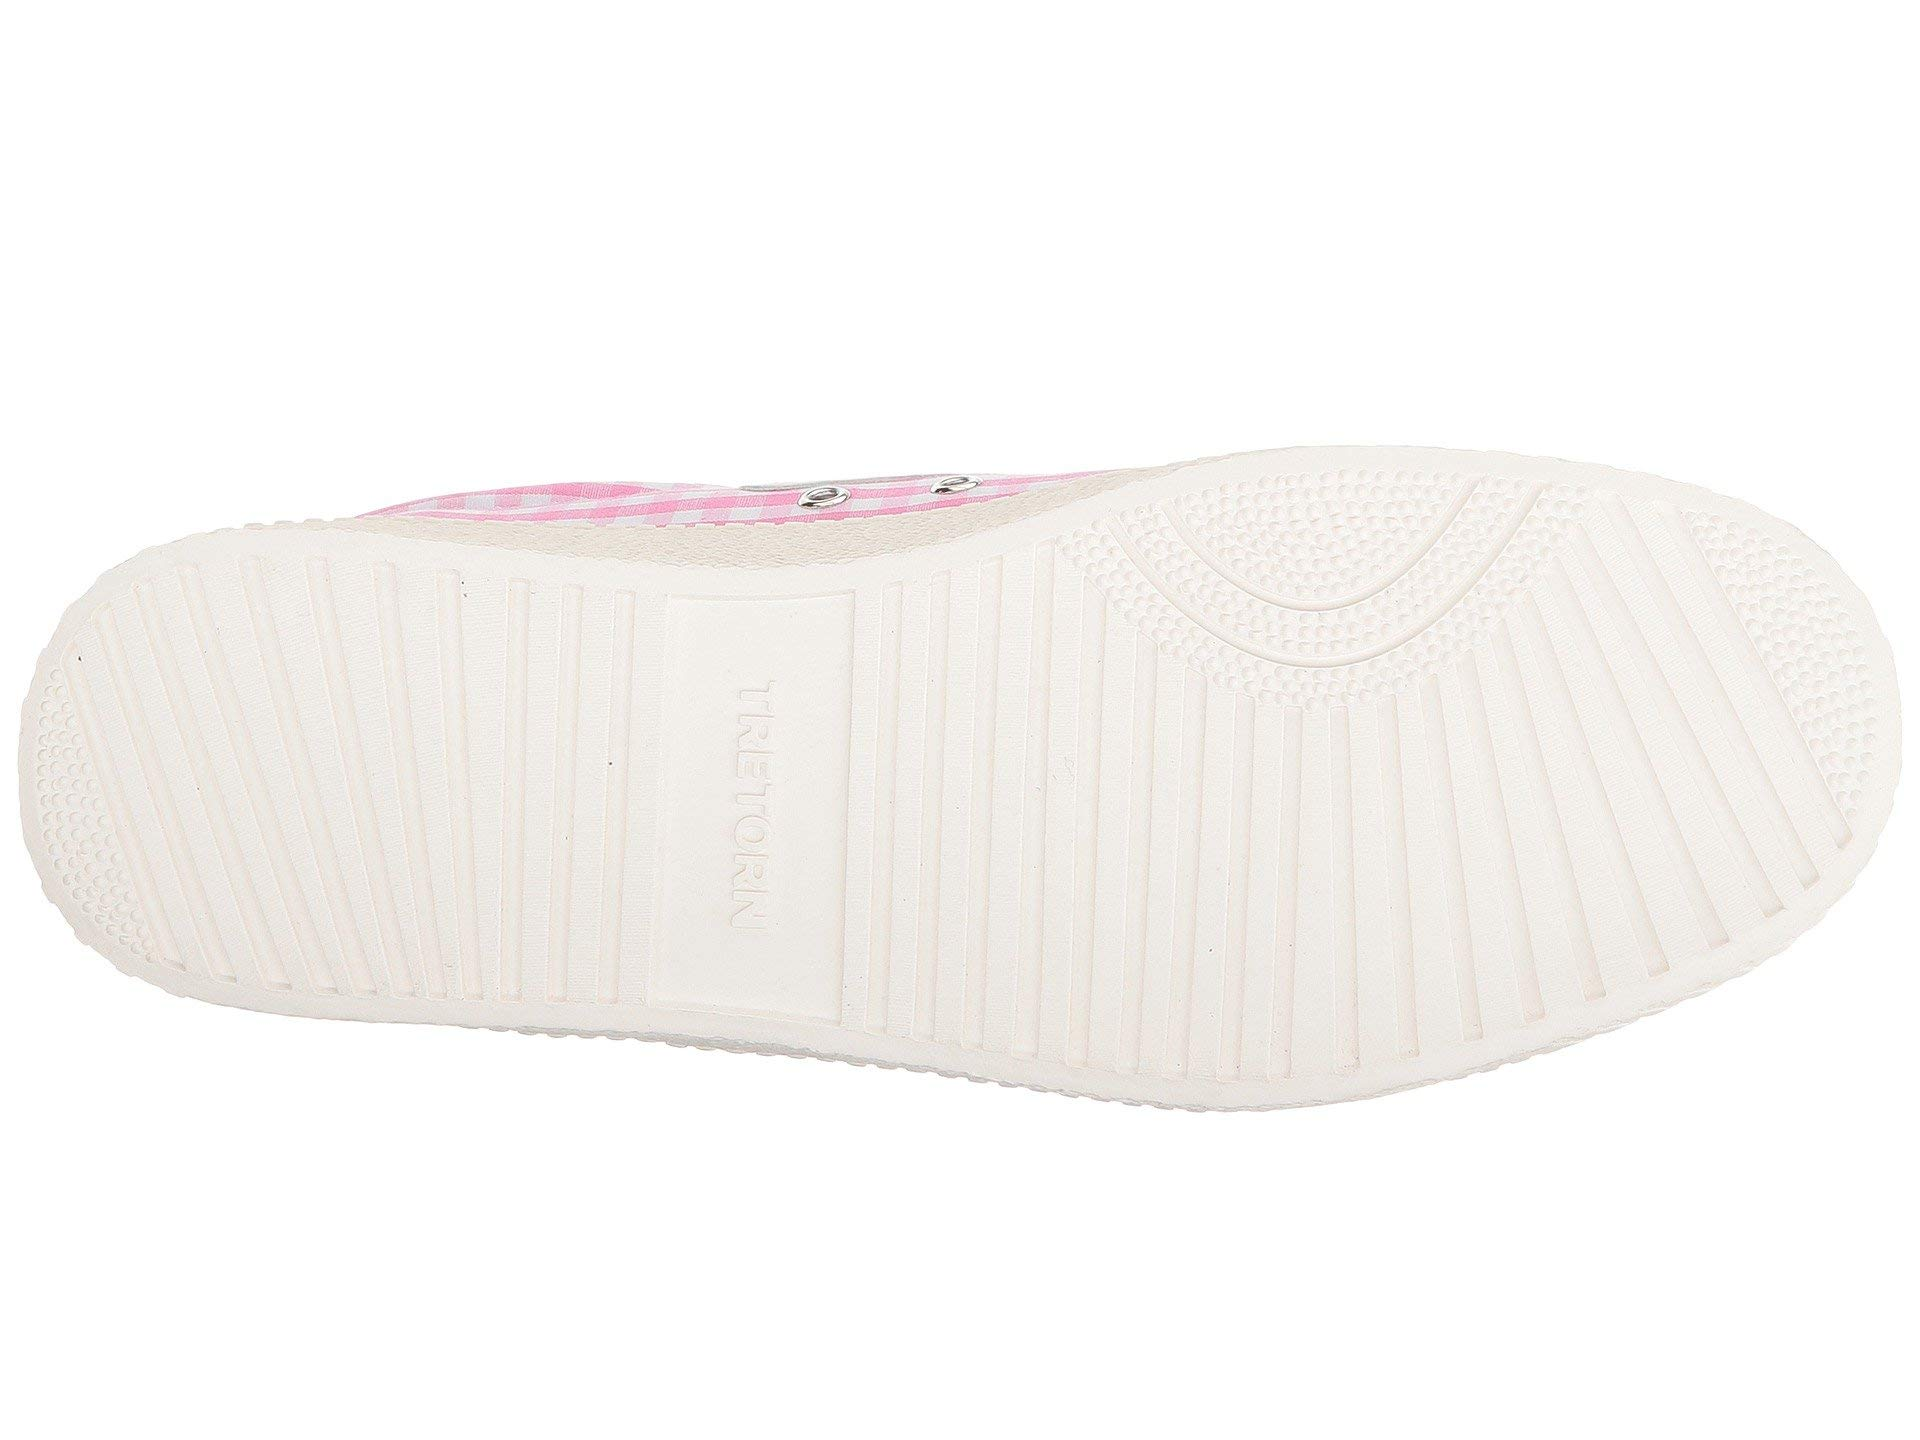circle: (1225, 460, 1488, 699), (691, 815, 828, 967), (1761, 549, 1881, 672), (20, 768, 124, 886)
line: (862, 678, 1191, 1019), (1212, 708, 1528, 1026), (148, 587, 386, 827), (392, 591, 618, 814), (1538, 613, 1720, 796), (1550, 806, 1731, 986), (298, 833, 473, 1001), (478, 836, 636, 997), (931, 551, 1095, 687), (144, 833, 262, 979)
text: (691, 815, 828, 967), (698, 672, 828, 812)
